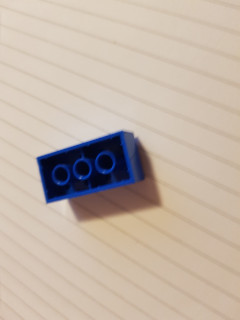2x4 blue: (35, 128, 145, 205)
